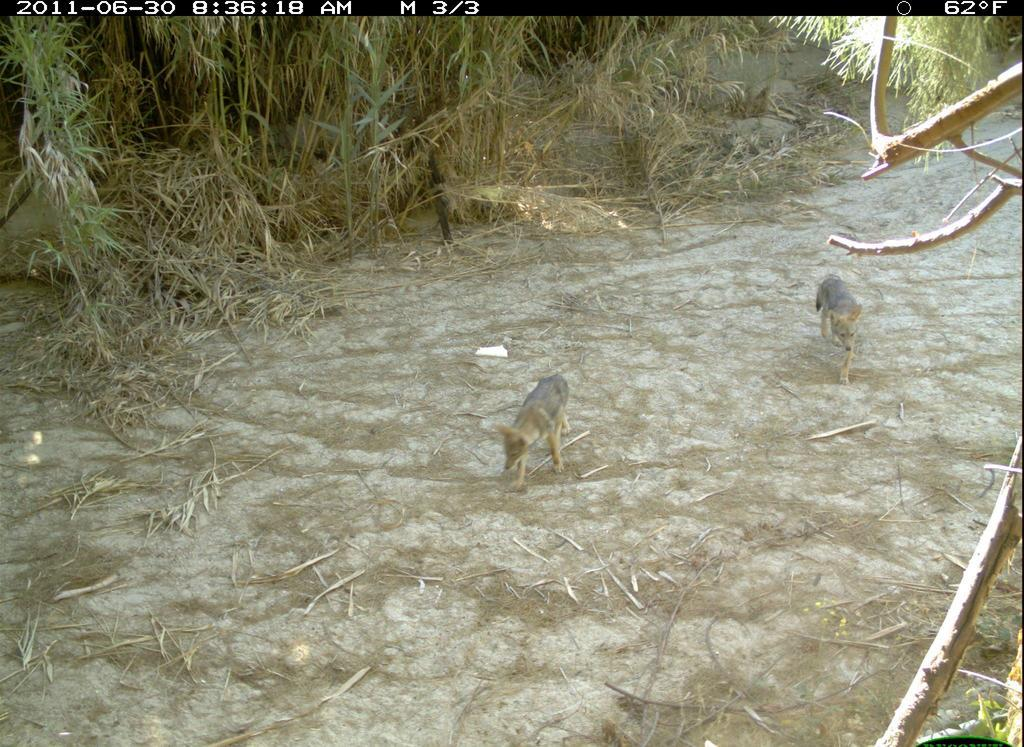coyote: (489, 365, 579, 507), (795, 258, 881, 374)
